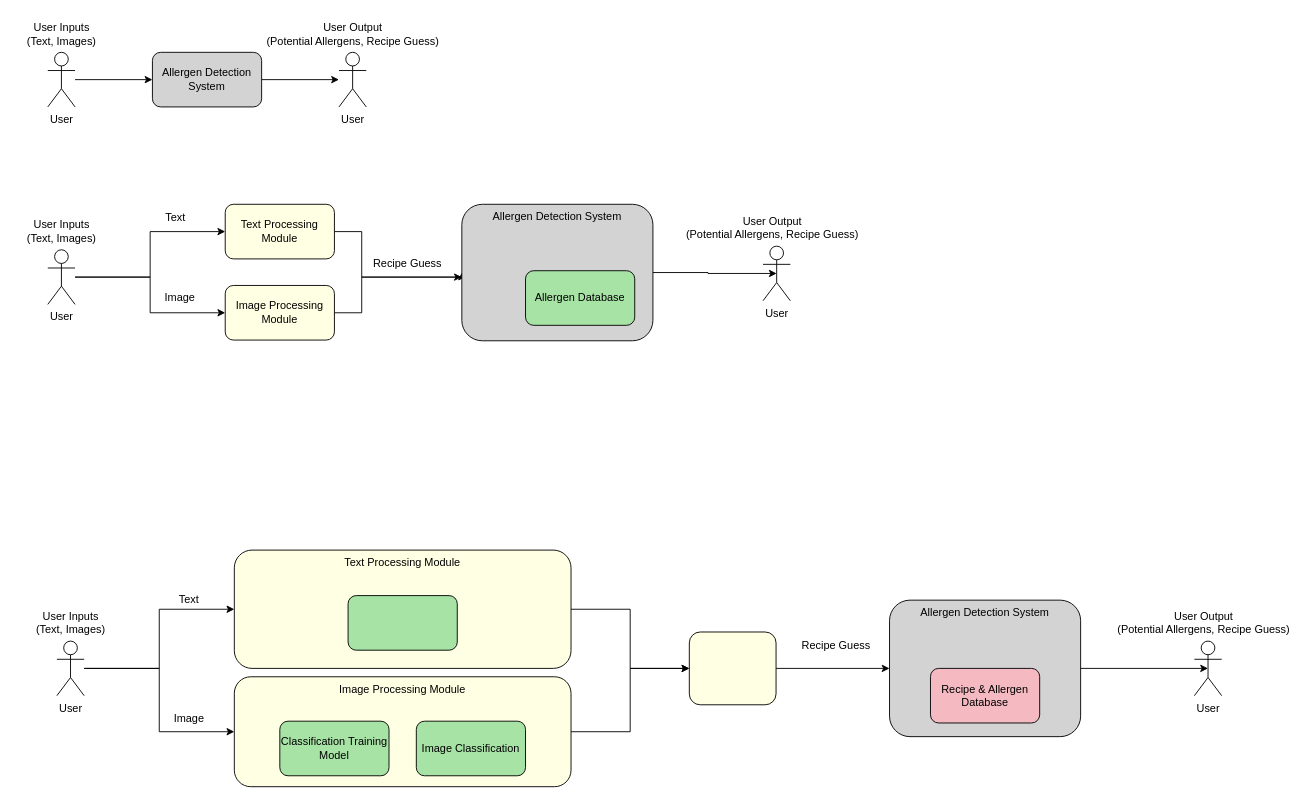
Some shapes in this 1314 by 803 pixel diagram are drawn without their labels. The shapes that lost their labels are listed below. From the top down, each one's centre as x and y in pixels, then its label:
the point at 402,622: Natural Language Processing (NLP)
the point at 732,668: Recipe Query Model
